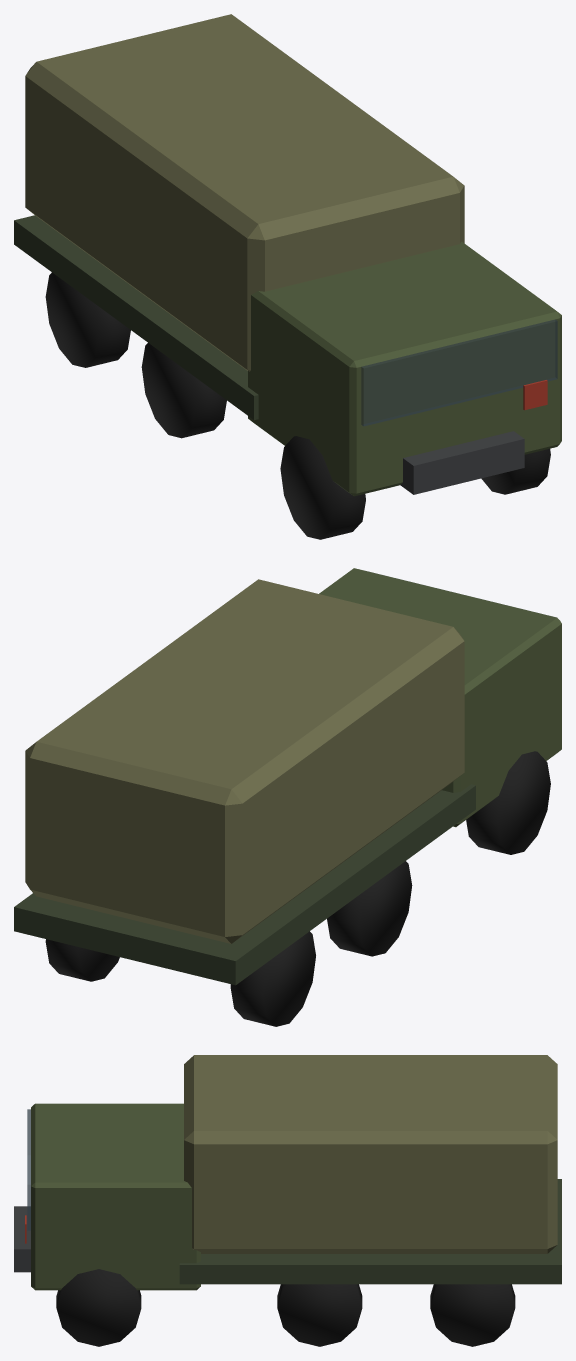
File: army_truck.glb
3 renders of one model, top to bottom at view 1: azimuth 30°, elevation 25°; view 2: azimuth 150°, elevation 25°; view 3: azimuth 270°, elevation 25°, orthographic. The views are drawn at different scales.
Parts seen in each view (by area): view 1: ArmyTruck; view 2: ArmyTruck; view 3: ArmyTruck.
Boxes of the visible parts, x1=… form: ArmyTruck: x1=14, y1=14, x2=561, y2=539; ArmyTruck: x1=14, y1=568, x2=561, y2=1026; ArmyTruck: x1=14, y1=1055, x2=561, y2=1346.
Bounding box in the file's own units: 2.4 × 2.75 × 6.45.
